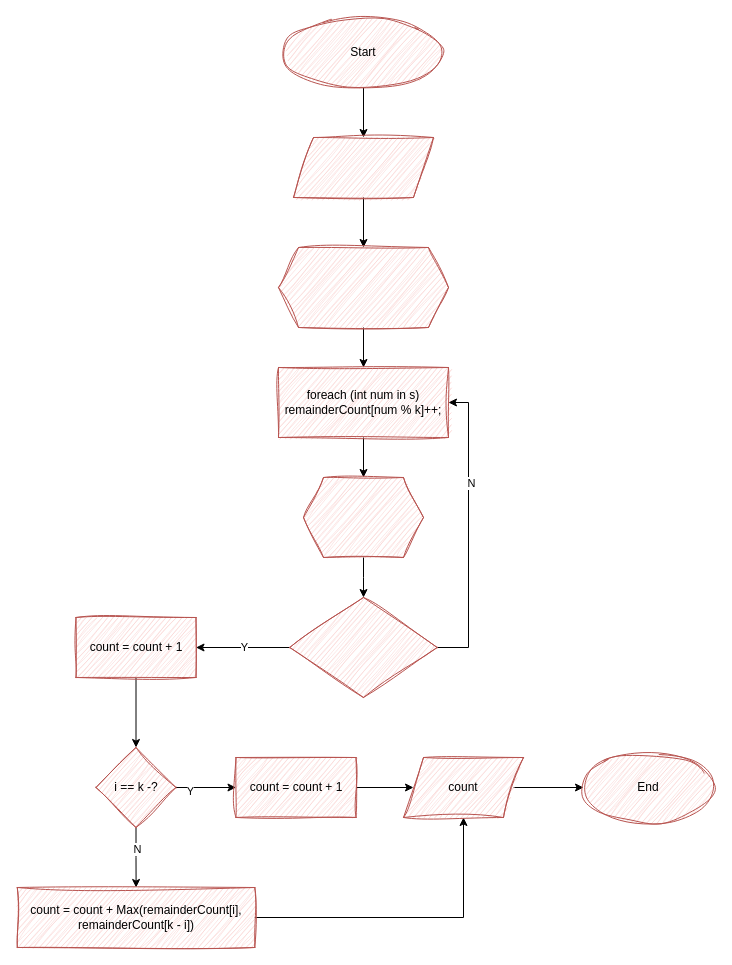
Image size: 732x965. Some labels were removed from this diagram. The shapes that lost their labels are listed below. From the top down, each one's centre as x and y in pixels, then its label:
[363,167]: input int k, list s
[363,287]: array remainder Count[k] to 0
[363,517]: count = 0
[363,647]: remainderCount[0] > 0?
